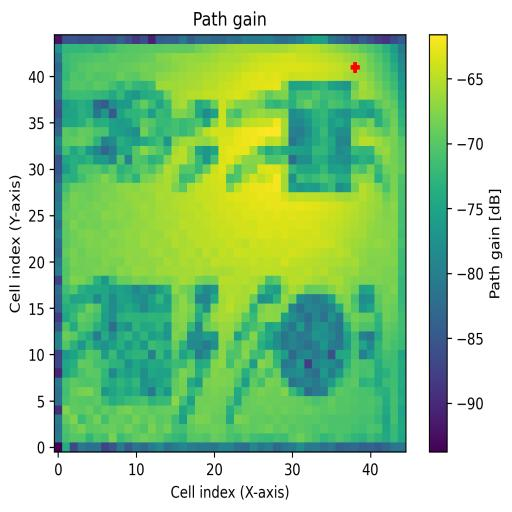Concrete: (289, 81, 352, 192)
Glass: (109, 80, 172, 186)
Metal: (281, 294, 351, 399)
Wood: (100, 286, 171, 406)
